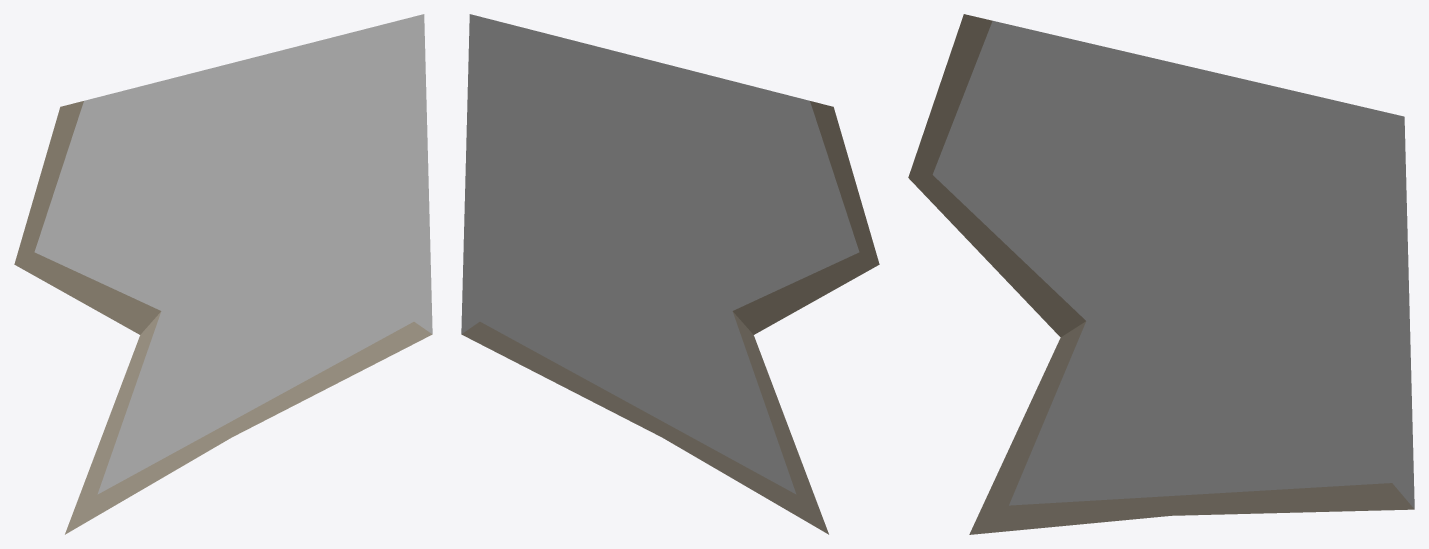
File: ShellRiddlesPuzzlePieceB.glb
The picture shows the model from 3 angles, left to right: view 1: azimuth 30°, elevation 25°; view 2: azimuth 150°, elevation 25°; view 3: azimuth 330°, elevation 25°; orthographic projection. The views are drawn at different scales.
Parts seen in each view (by area): view 1: ShellRiddlesPuzzlePieceB; view 2: ShellRiddlesPuzzlePieceB; view 3: ShellRiddlesPuzzlePieceB.
Part boxes in pixels (bbox=[...]): ShellRiddlesPuzzlePieceB: bbox=[14, 14, 432, 534]; ShellRiddlesPuzzlePieceB: bbox=[461, 14, 879, 534]; ShellRiddlesPuzzlePieceB: bbox=[908, 14, 1414, 534].
Size of the model in its own units: 0.4424 by 0.4378 by 0.
